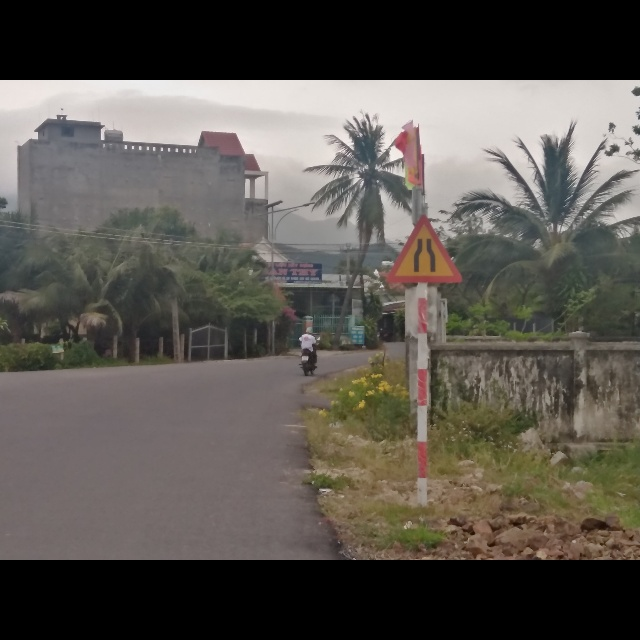Đường bị hẹp cả hai bên: (386, 215, 464, 283)
